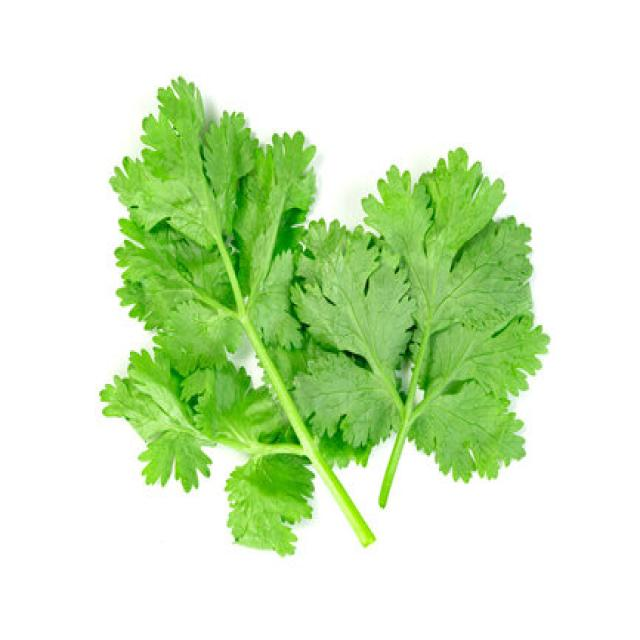Coriander Leaves: (97, 79, 548, 563)
